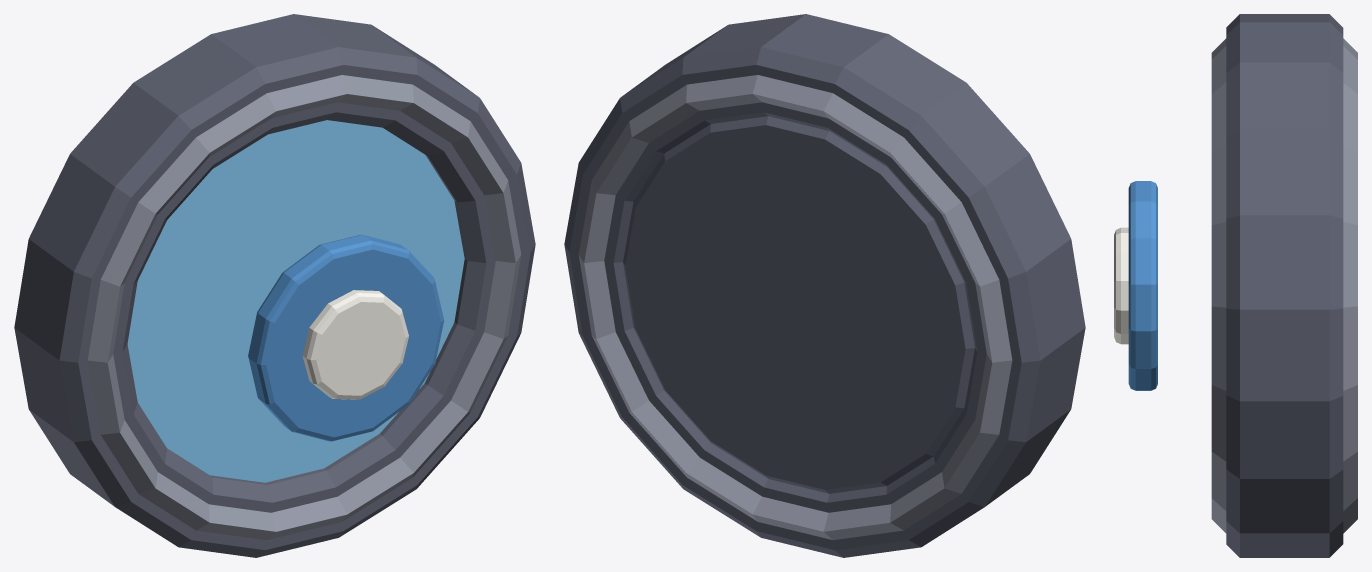
Rendered from game-ui-icon-library-button-round-0a2233e2__19047.glb.
3 views of the same model, side by side, from view 1: azimuth 30°, elevation 25°; view 2: azimuth 150°, elevation 25°; view 3: azimuth 270°, elevation 25° (orthographic).
Visible parts, largest first — view 1: button-round; view 2: button-round; view 3: button-round.
Part boxes in pixels (<box>): button-round: <box>14,14,535,557</box>; button-round: <box>564,14,1085,557</box>; button-round: <box>1114,14,1357,557</box>.
Size of the model in its own units: 0.9545 by 0.9401 by 0.4261.
